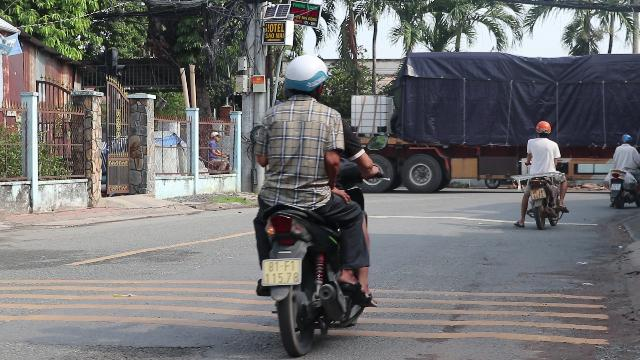helmet: (280, 52, 328, 100), (534, 120, 550, 136)
licenseplate: (262, 259, 300, 285), (530, 187, 546, 200)
motorcyclist: (242, 52, 382, 352), (516, 120, 568, 228)
